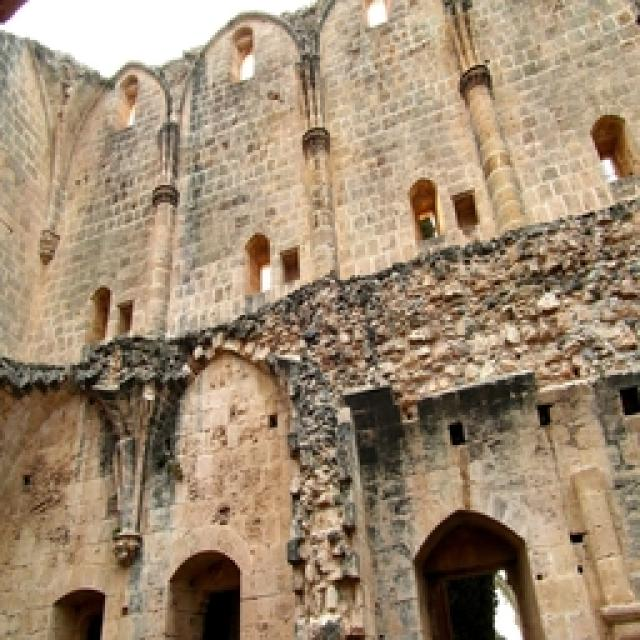Abbey: (53, 42, 627, 604)
